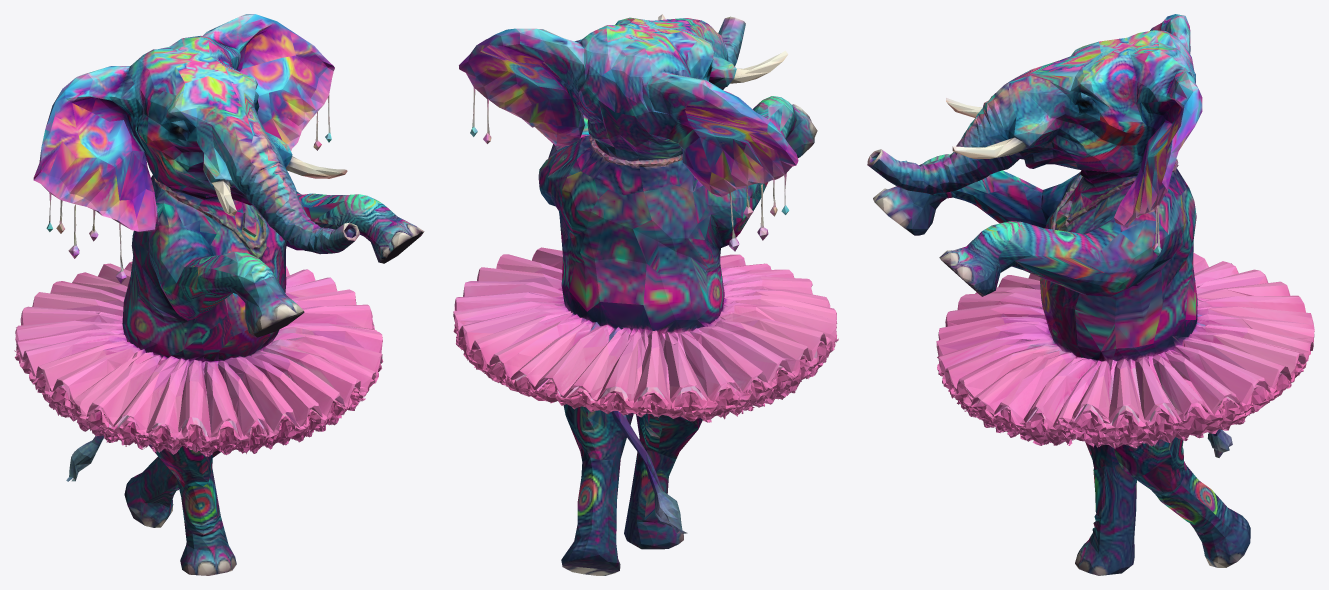
File: pf_mo666kvxhhhdnt.glb
3 views of the same model, side by side, from view 1: azimuth 30°, elevation 25°; view 2: azimuth 150°, elevation 25°; view 3: azimuth 270°, elevation 25° (orthographic). The views are drawn at different scales.
Visible parts, largest first — view 1: Mesh_0; view 2: Mesh_0; view 3: Mesh_0.
Boxes of the visible parts, <box> form: Mesh_0: <box>14,14,424,575</box>; Mesh_0: <box>453,14,838,575</box>; Mesh_0: <box>867,14,1314,575</box>.
Size of the model in its own units: 1.24 by 1.9 by 1.47.
1 material, 1 textured.
